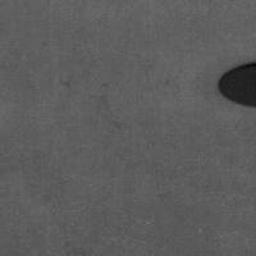Punching: (218, 61, 256, 108)
